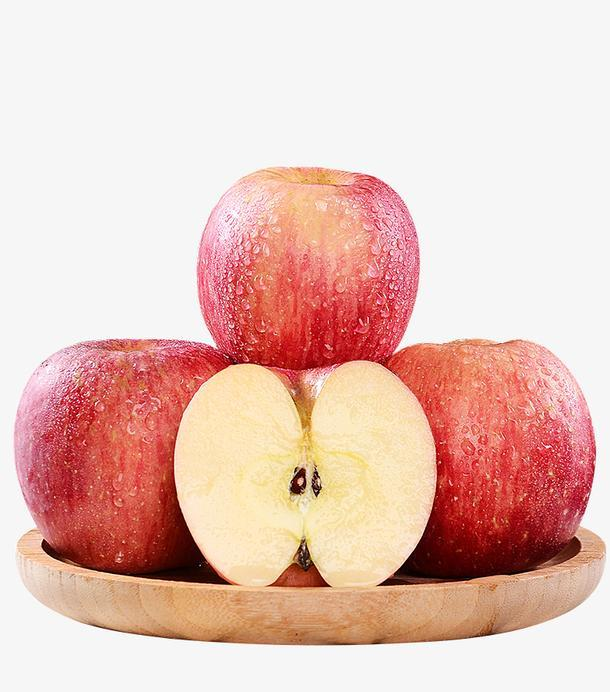apple: (173, 360, 433, 588), (16, 337, 234, 576), (384, 340, 598, 576), (201, 165, 424, 365)
